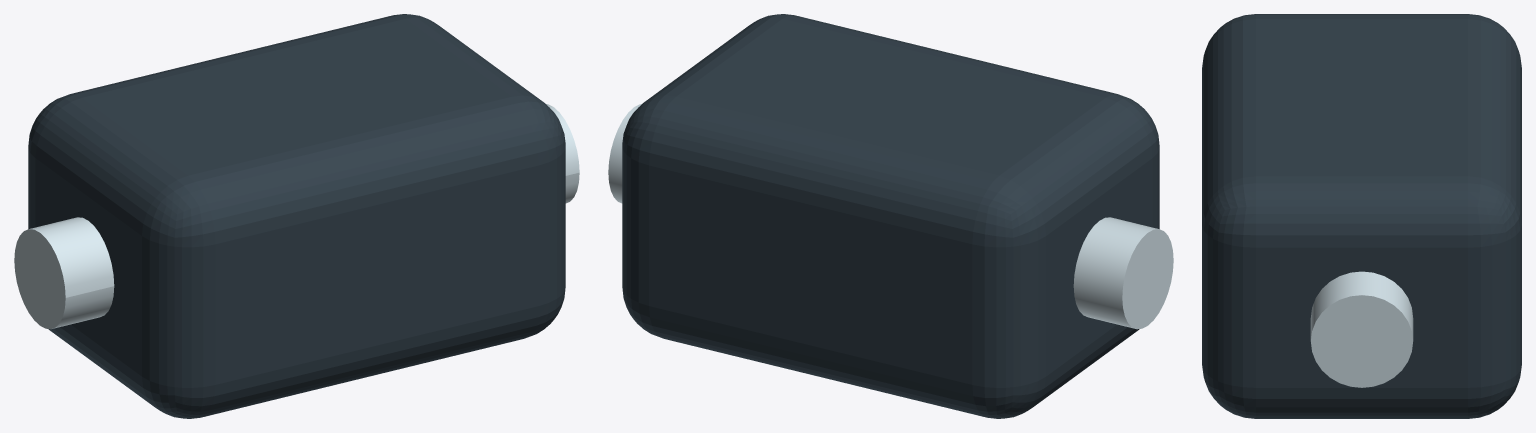
File: g4ed_powertrain_mounts.glb
3 views of the same model, side by side, from view 1: azimuth 30°, elevation 25°; view 2: azimuth 150°, elevation 25°; view 3: azimuth 270°, elevation 25° (orthographic).
Visible parts, largest first — view 1: asset_mesh__g4ed_377__reference_body, asset_mesh__g4ed_377__reference_axis; view 2: asset_mesh__g4ed_377__reference_body, asset_mesh__g4ed_377__reference_axis; view 3: asset_mesh__g4ed_377__reference_body, asset_mesh__g4ed_377__reference_axis.
Boxes of the visible parts, <box> form: asset_mesh__g4ed_377__reference_body: <box>28,14,565,418</box>; asset_mesh__g4ed_377__reference_axis: <box>14,104,579,329</box>; asset_mesh__g4ed_377__reference_body: <box>622,14,1159,418</box>; asset_mesh__g4ed_377__reference_axis: <box>608,104,1173,329</box>; asset_mesh__g4ed_377__reference_body: <box>1202,14,1521,418</box>; asset_mesh__g4ed_377__reference_axis: <box>1310,271,1413,387</box>.
Size of the model in its own units: 1.98 by 0.8979 by 1.07.
